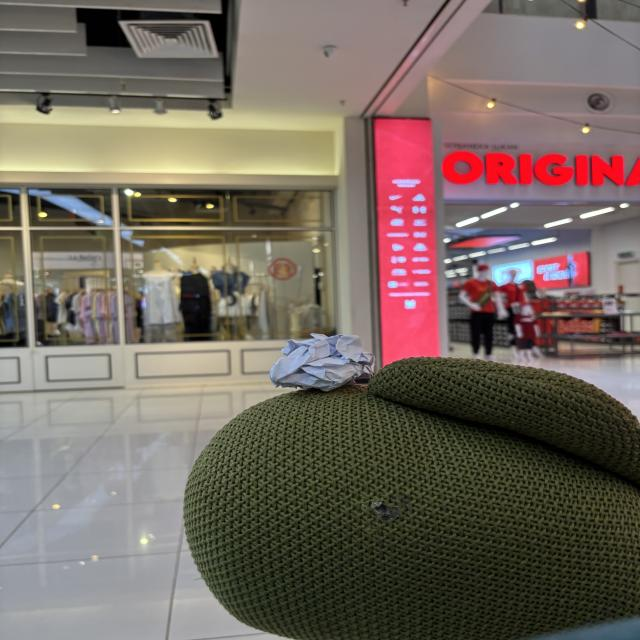crumpled_paper: (269, 326, 378, 393)
